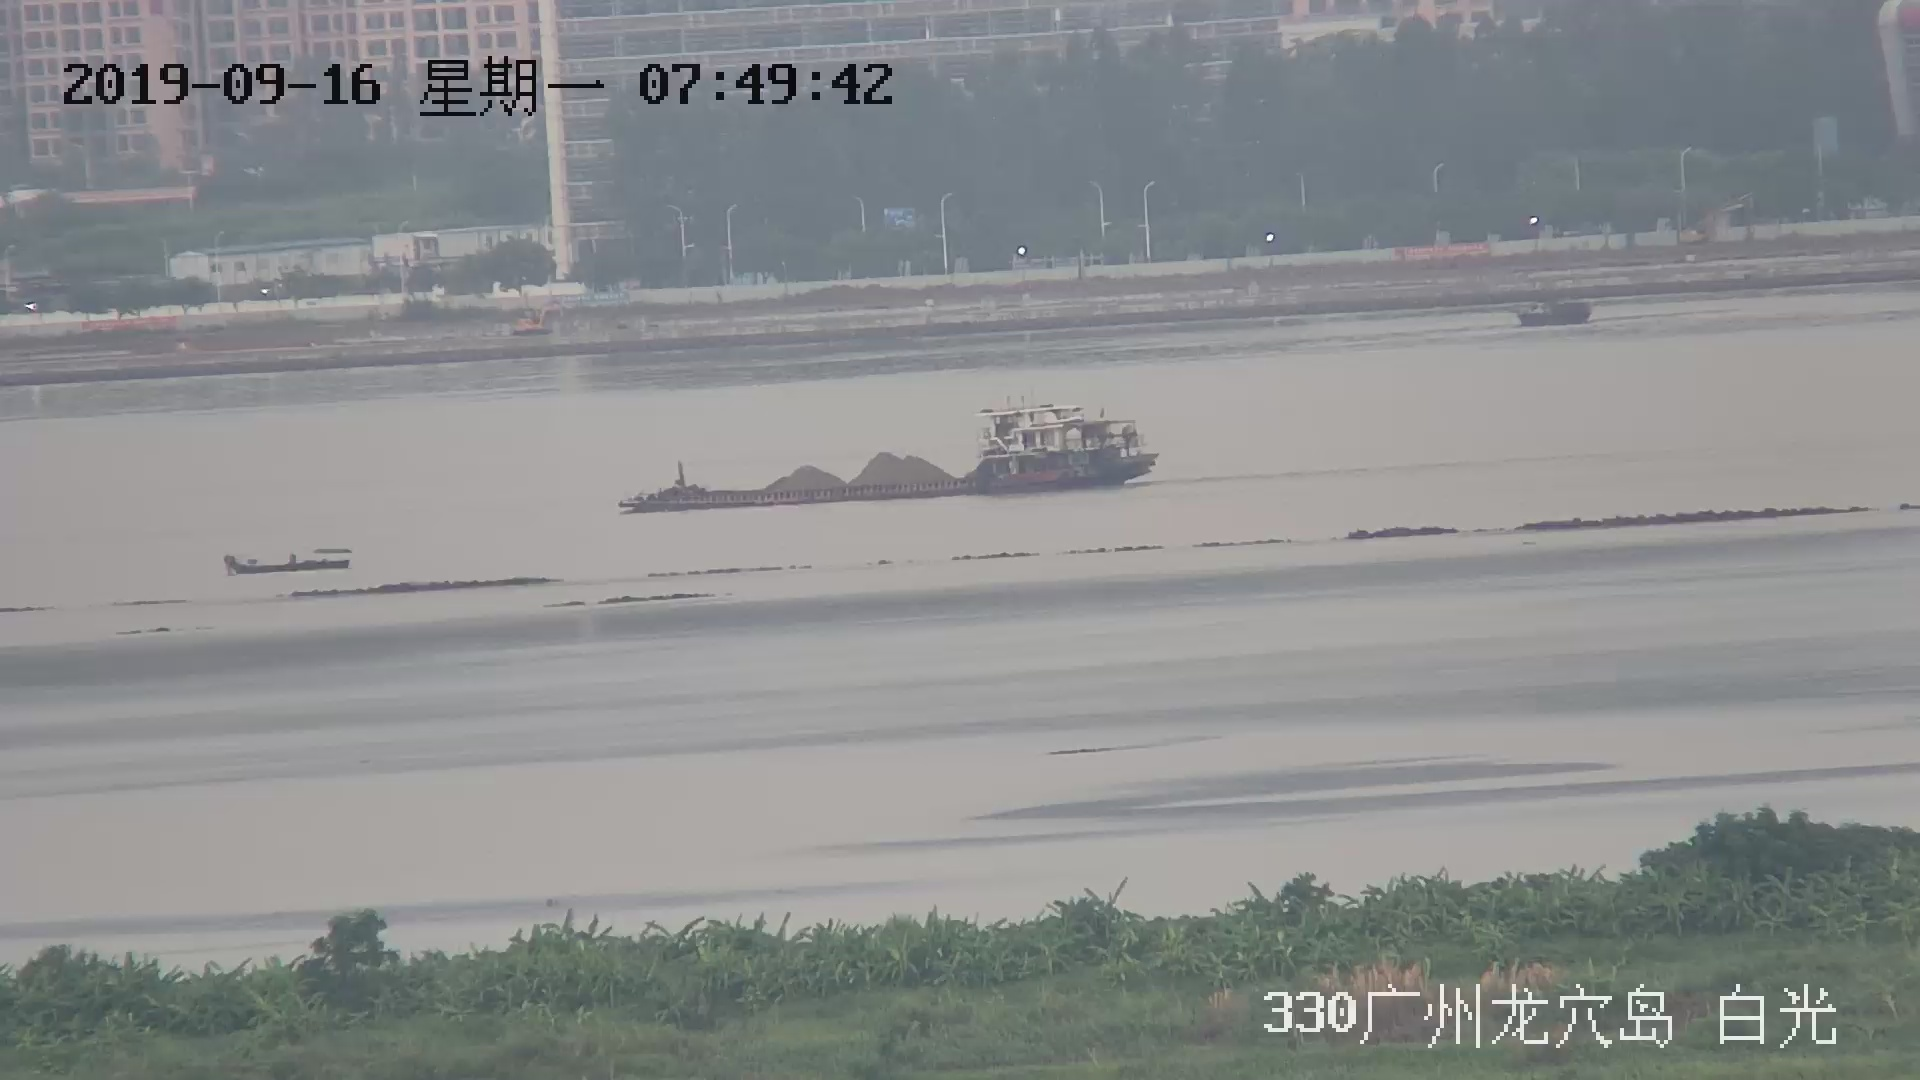ship: (607, 396, 1156, 514), (1516, 299, 1593, 324)
